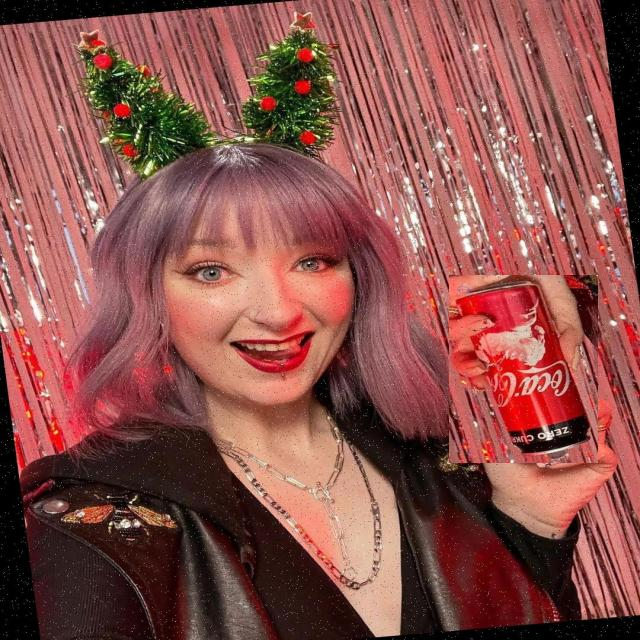coca-cola: (449, 275, 598, 463)
